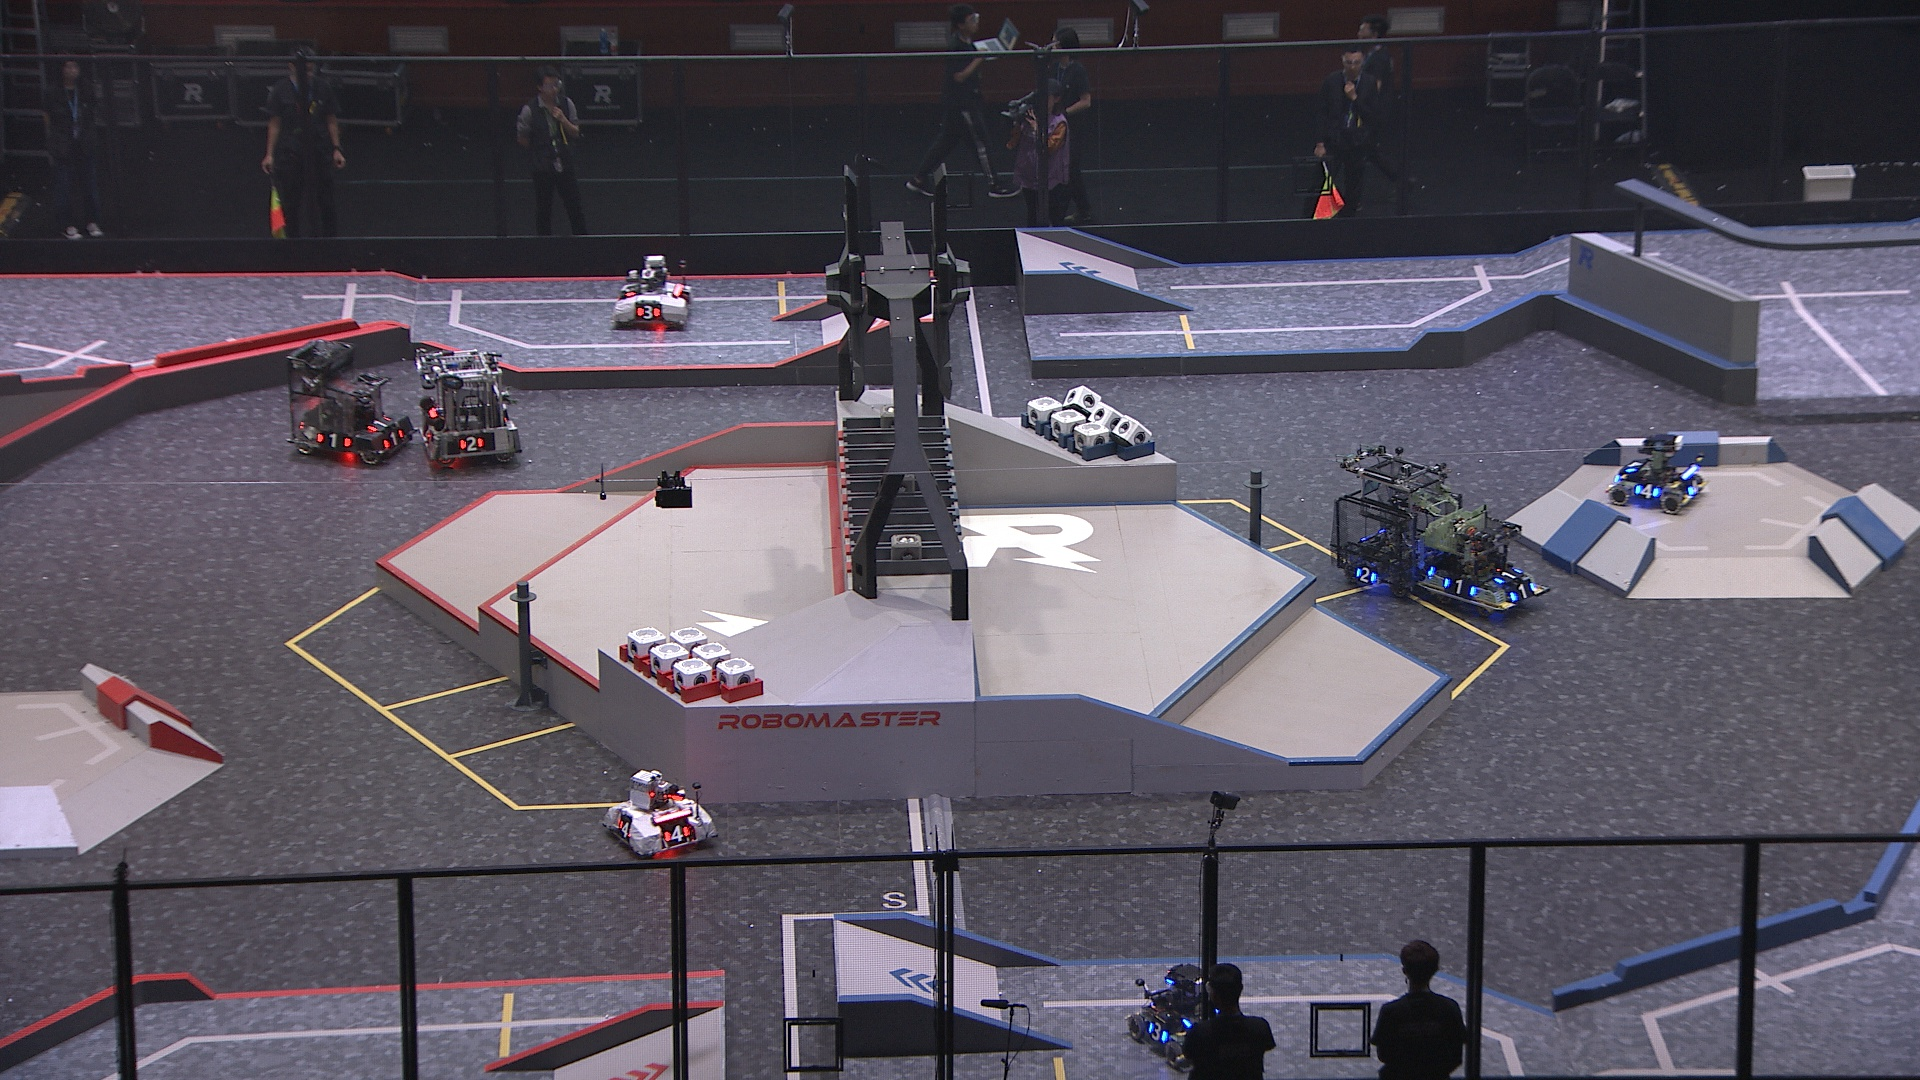armor: (1443, 575, 1477, 599), (315, 431, 353, 451), (1510, 582, 1538, 607), (1493, 566, 1523, 585), (381, 429, 406, 452), (636, 305, 665, 323), (1633, 481, 1662, 500), (1353, 564, 1379, 584), (367, 414, 394, 433), (662, 825, 690, 844), (1147, 1021, 1168, 1044), (615, 818, 636, 840), (460, 436, 487, 454), (622, 282, 641, 301), (1688, 477, 1704, 498), (1626, 458, 1644, 473)
car: (1332, 443, 1468, 599), (282, 342, 417, 469), (1423, 504, 1555, 618), (1124, 963, 1247, 1072), (417, 348, 524, 467), (600, 767, 721, 858), (1607, 429, 1709, 513), (609, 258, 694, 332)
